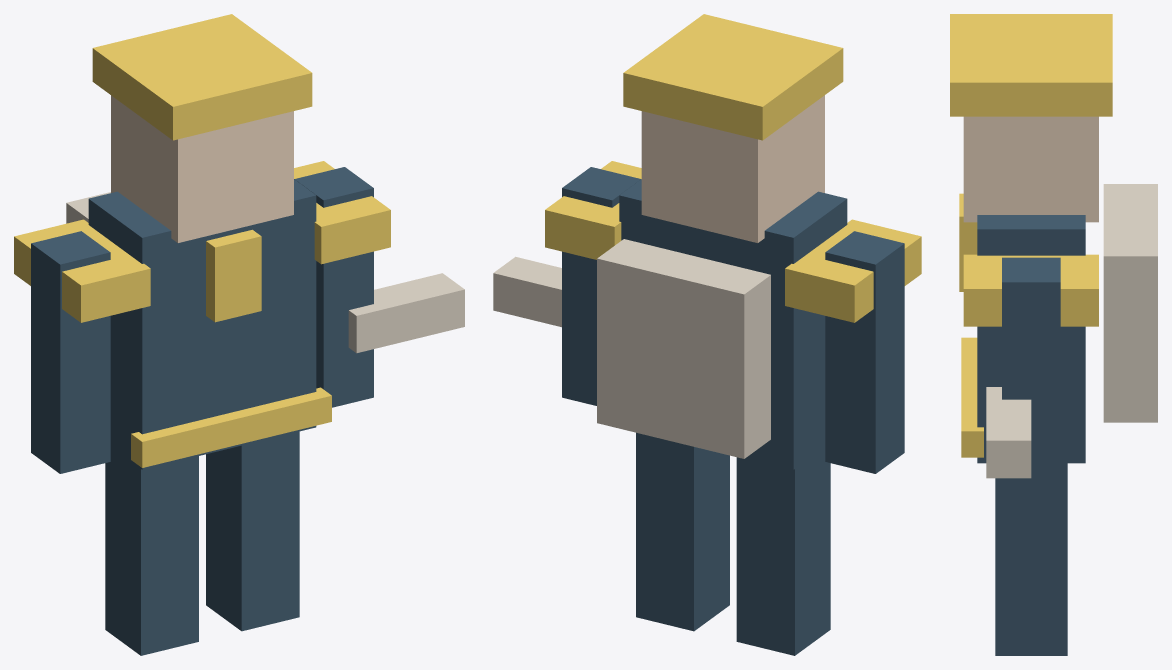
File: 08_elo_wayfare_herald_under_geometry.glb
3 views of the same model, side by side, from view 1: azimuth 30°, elevation 25°; view 2: azimuth 150°, elevation 25°; view 3: azimuth 270°, elevation 25° (orthographic).
Parts seen in each view (by area): view 1: Elo Wayfare, Herald under Geometry; view 2: Elo Wayfare, Herald under Geometry; view 3: Elo Wayfare, Herald under Geometry.
Part boxes in pixels (left/top/right/bottom): Elo Wayfare, Herald under Geometry: left=14, top=14, right=464, bottom=655; Elo Wayfare, Herald under Geometry: left=493, top=14, right=921, bottom=655; Elo Wayfare, Herald under Geometry: left=950, top=14, right=1157, bottom=655.
Size of the model in its own units: 1.12 by 1.52 by 0.5038.
